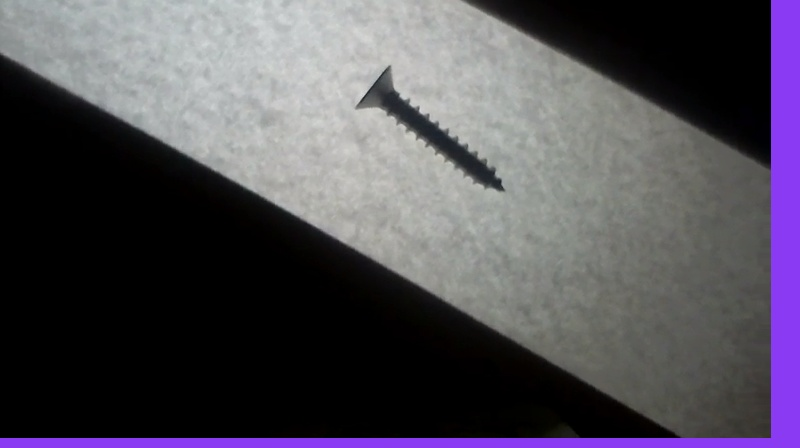S001: (352, 61, 510, 196)
